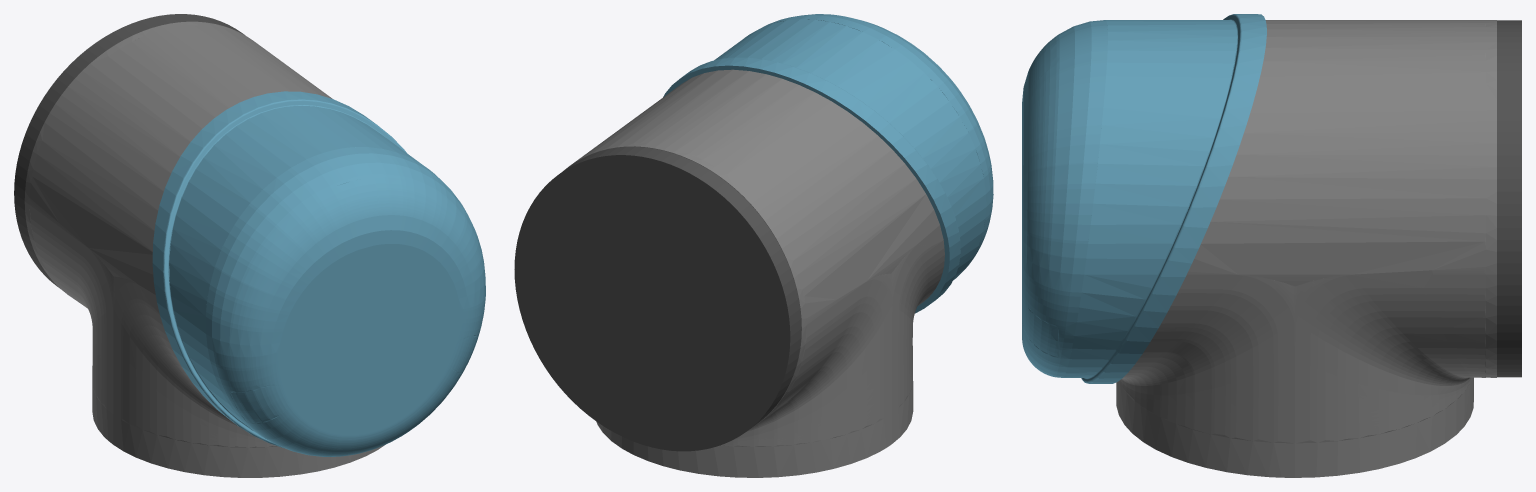
Rendered from Wrist2.dae.
3 renders of one model, left to right at view 1: azimuth 30°, elevation 25°; view 2: azimuth 150°, elevation 25°; view 3: azimuth 270°, elevation 25°, orthographic. The views are drawn at different scales.
Parts seen in each view (by area): view 1: node1, node0; view 2: node0, node1; view 3: node0, node1.
Boxes of the visible parts, x1,y1,x2,y2 form: node1: [152, 91, 485, 456]; node0: [14, 14, 384, 477]; node0: [514, 69, 944, 477]; node1: [663, 14, 993, 313]; node0: [1116, 20, 1521, 477]; node1: [1022, 14, 1266, 383].
Size of the model in its own units: 0.0775 by 0.1047 by 0.0857.
